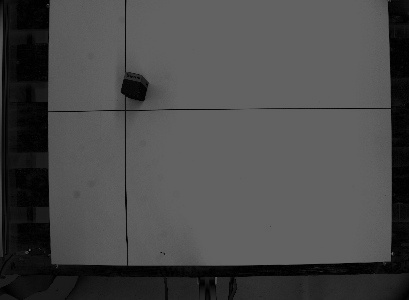b3: (118, 69, 151, 103)
